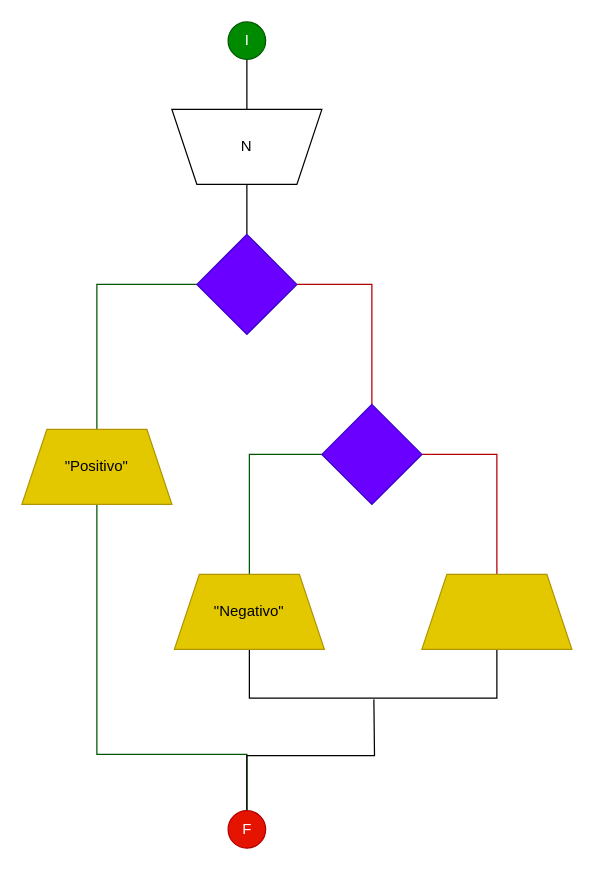
Some shapes in this 594 by 870 pixel diagram are drawn without their labels. Each missing label, with the centre of its shape:
"Cero": point (496, 611)
N < 0: point (371, 453)
N > 0: point (246, 283)
